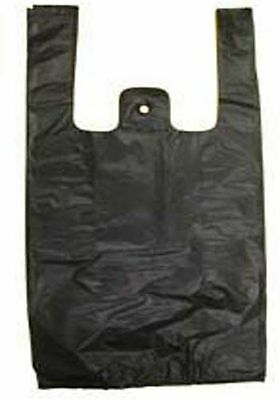plastic_bagwdw: (6, 2, 280, 396)
